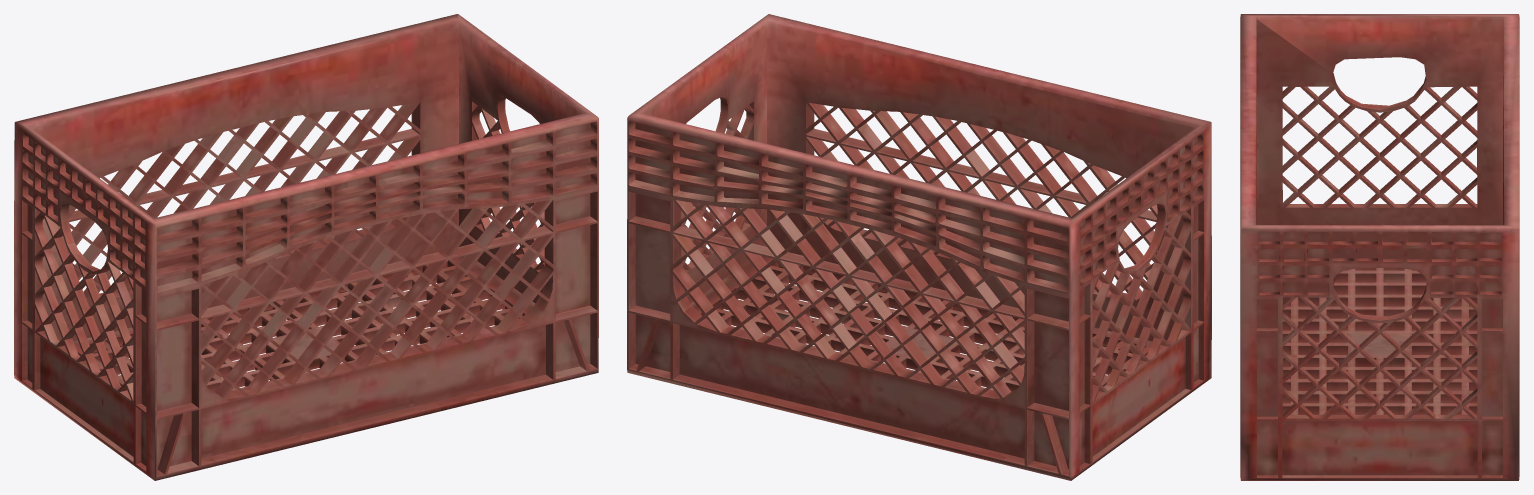
File: plasticCrate.glb
3 views of the same model, side by side, from view 1: azimuth 30°, elevation 25°; view 2: azimuth 150°, elevation 25°; view 3: azimuth 270°, elevation 25° (orthographic).
Visible parts, largest first — view 1: plastic_crate_03; view 2: plastic_crate_03; view 3: plastic_crate_03.
Part boxes in pixels (x1,y1,x2,y2): plastic_crate_03: (14, 14, 598, 480); plastic_crate_03: (627, 14, 1211, 480); plastic_crate_03: (1240, 14, 1519, 480).
Size of the model in its own units: 0.4811 by 0.2652 by 0.265.
1 material, 1 textured.
